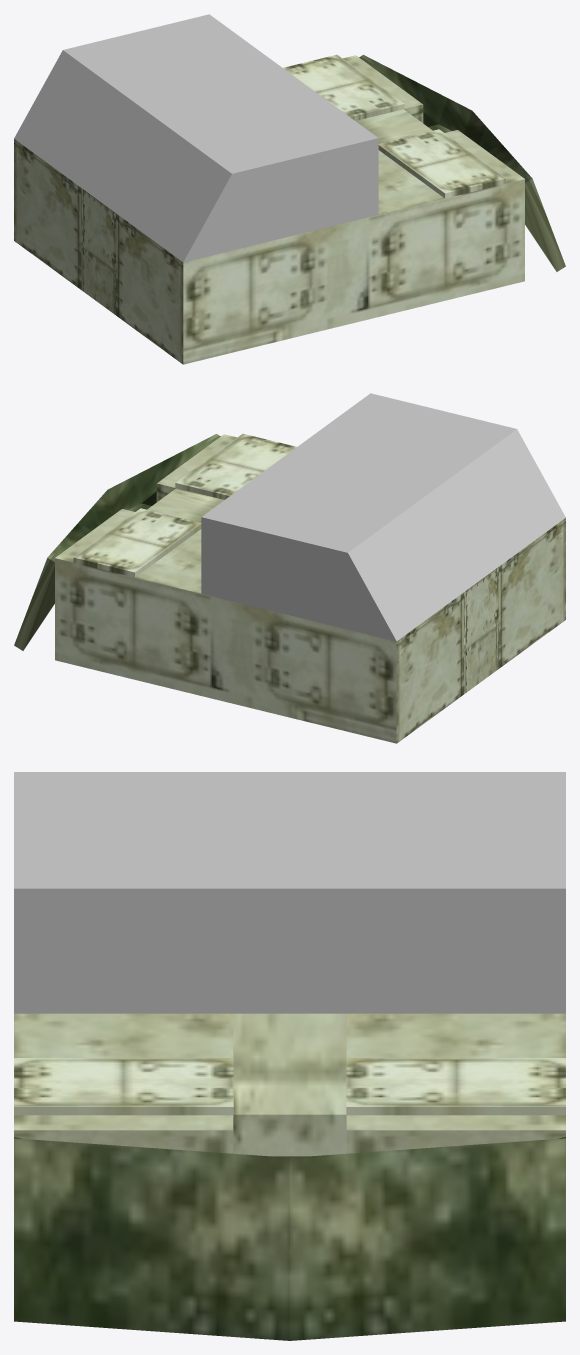
The model's file is hull.obj.
3 views of the same model, one above another, from view 1: azimuth 30°, elevation 25°; view 2: azimuth 150°, elevation 25°; view 3: azimuth 270°, elevation 25° (orthographic). The views are drawn at different scales.
Visible parts, largest first — view 1: Cube.001, Cube.002, Cube.003, Cube.006, Cube, Cube.005, Cube.004; view 2: Cube.001, Cube.003, Cube.002, Cube.006, Cube, Cube.004, Cube.005; view 3: Cube.001, Cube.006, Cube.003, Cube.002, Cube, Cube.004, Cube.005.
Part boxes in pixels (x1=…): Cube.001: x1=14, y1=14, x2=378, y2=262; Cube.002: x1=116, y1=130, x2=524, y2=364; Cube.003: x1=14, y1=55, x2=423, y2=289; Cube.006: x1=359, y1=55, x2=565, y2=271; Cube: x1=81, y1=109, x2=432, y2=314; Cube.005: x1=378, y1=129, x2=506, y2=198; Cube.004: x1=283, y1=54, x2=404, y2=120; Cube.001: x1=201, y1=393, x2=565, y2=641; Cube.003: x1=55, y1=509, x2=463, y2=743; Cube.002: x1=156, y1=434, x2=565, y2=668; Cube.006: x1=14, y1=434, x2=220, y2=650; Cube: x1=147, y1=488, x2=498, y2=693; Cube.004: x1=73, y1=508, x2=201, y2=577; Cube.005: x1=175, y1=433, x2=296, y2=499; Cube.001: x1=14, y1=772, x2=565, y2=1013; Cube.006: x1=14, y1=1137, x2=565, y2=1340; Cube.003: x1=346, y1=1013, x2=565, y2=1153; Cube.002: x1=14, y1=1013, x2=233, y2=1153; Cube: x1=233, y1=1013, x2=346, y2=1156; Cube.004: x1=346, y1=1058, x2=565, y2=1115; Cube.005: x1=14, y1=1058, x2=233, y2=1115.
Size of the model in its own units: 3 by 1.26 by 2.16.
